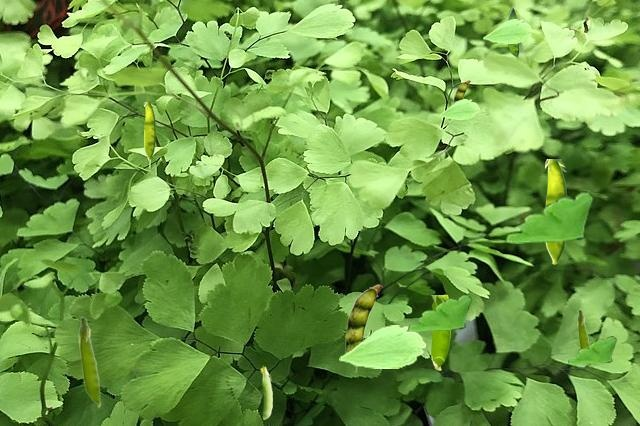pea: (345, 284, 381, 371), (545, 159, 566, 263), (78, 316, 100, 407), (431, 295, 449, 369), (577, 309, 590, 366), (453, 80, 469, 120), (260, 365, 271, 418), (144, 102, 154, 159), (507, 8, 517, 57)
